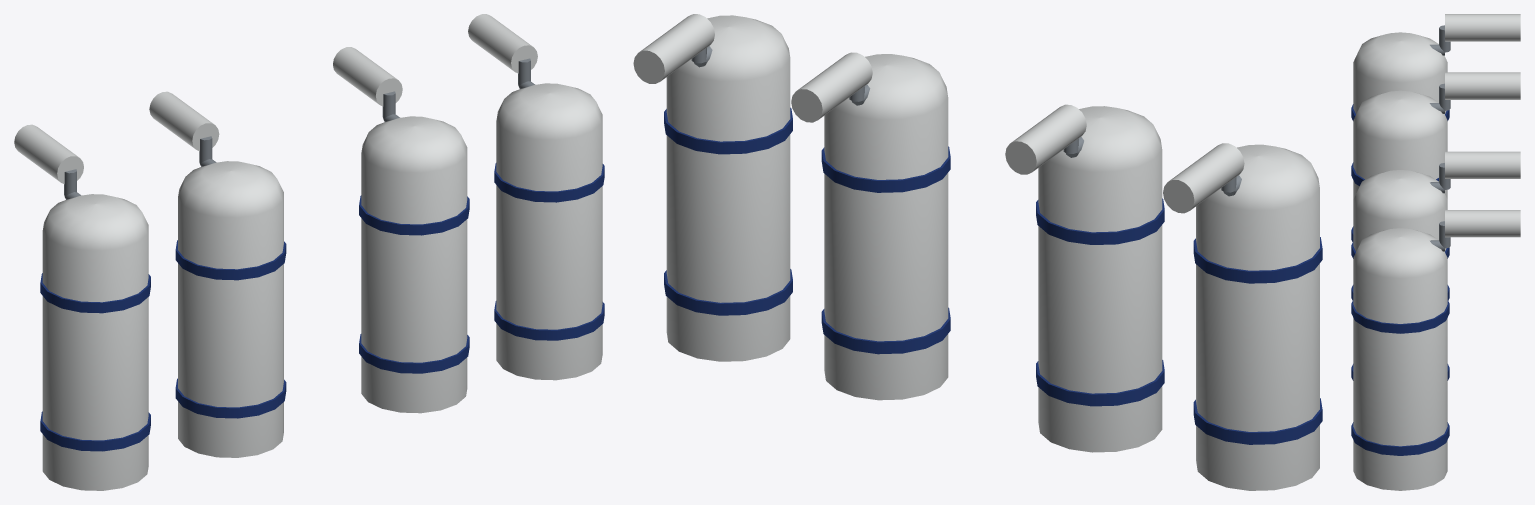
The model's file is l200_scrubber.obj.
3 renders of one model, left to right at view 1: azimuth 30°, elevation 25°; view 2: azimuth 150°, elevation 25°; view 3: azimuth 270°, elevation 25°, orthographic. The views are drawn at different scales.
Parts seen in each view (by area): view 1: l200_scrubber; view 2: l200_scrubber; view 3: l200_scrubber.
Boxes of the visible parts, x1=… form: l200_scrubber: x1=14, y1=14, x2=604, y2=490; l200_scrubber: x1=633, y1=14, x2=1322, y2=490; l200_scrubber: x1=1351, y1=14, x2=1520, y2=490.
Size of the model in its own units: 5.7 by 2.91 by 1.72.
